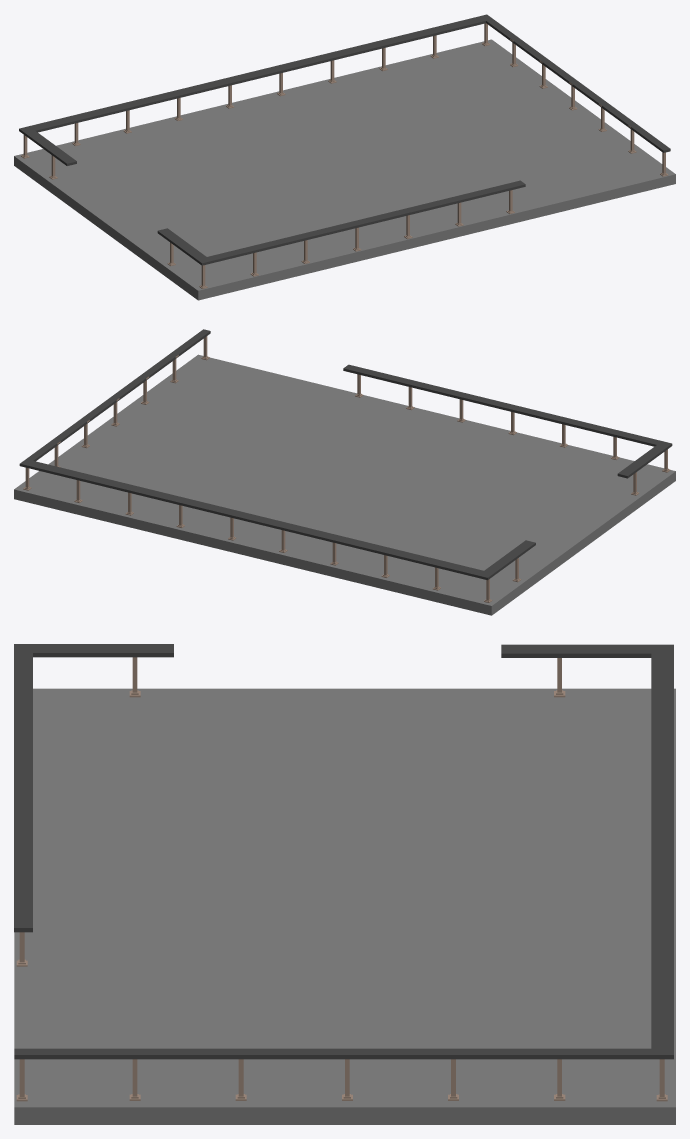
File: general wood area.fbx
3 renders of one model, top to bottom at view 1: azimuth 30°, elevation 25°; view 2: azimuth 150°, elevation 25°; view 3: azimuth 270°, elevation 25°, orthographic. The views are drawn at different scales.
Visible parts, largest first — view 1: Box001, Line001, Box028; view 2: Box001, Line001, Box028; view 3: Box001, Line001, Box028.
Part boxes in pixels (<box>): Box001: <box>14,39,675,300</box>; Line001: <box>19,14,670,265</box>; Box028: <box>21,23,668,288</box>; Box001: <box>14,354,675,615</box>; Line001: <box>19,329,672,580</box>; Box028: <box>23,336,670,602</box>; Box001: <box>14,688,675,1124</box>; Line001: <box>14,644,673,1059</box>; Box028: <box>16,657,667,1101</box>.
Size of the model in its own units: 584 by 390 by 42.46.
